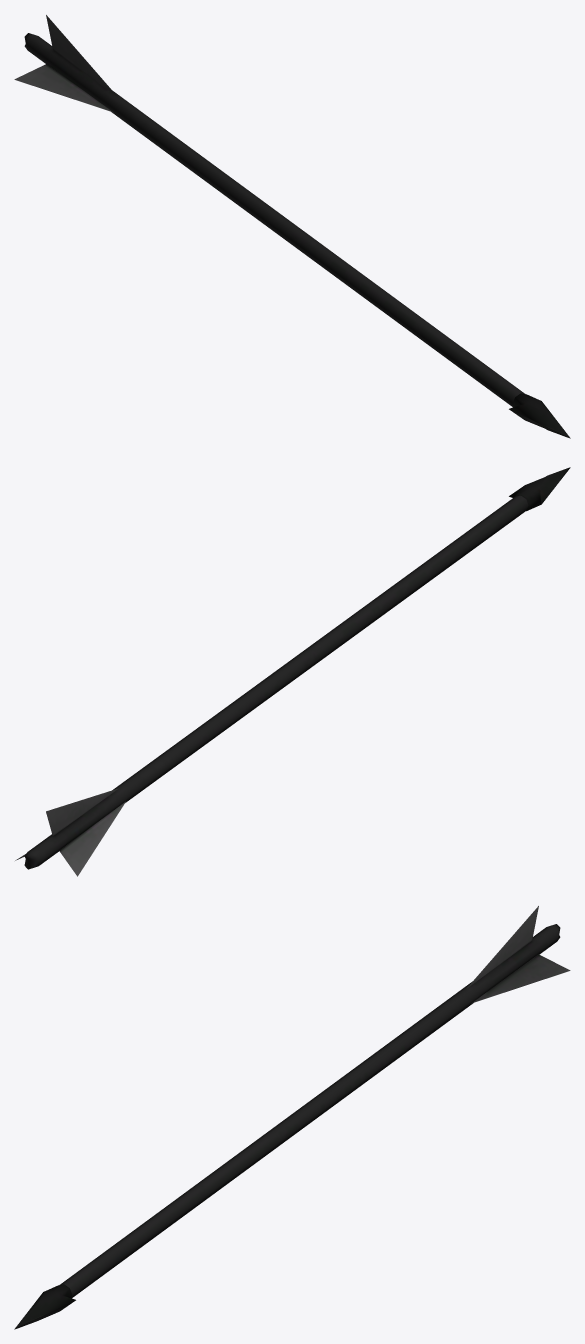
File: Weapons_Bolt01_LOD0.glb
3 views of the same model, one above another, from view 1: azimuth 30°, elevation 25°; view 2: azimuth 150°, elevation 25°; view 3: azimuth 330°, elevation 25° (orthographic).
Visible parts, largest first — view 1: Hoodie; view 2: Hoodie; view 3: Hoodie.
Part boxes in pixels (left/top/right/bottom): Hoodie: left=14, top=15, right=570, bottom=438; Hoodie: left=15, top=467, right=570, bottom=876; Hoodie: left=14, top=906, right=570, bottom=1329.
Bounding box in the file's own units: 0.0216 × 0.0187 × 0.3193.
1 material, 1 textured.
